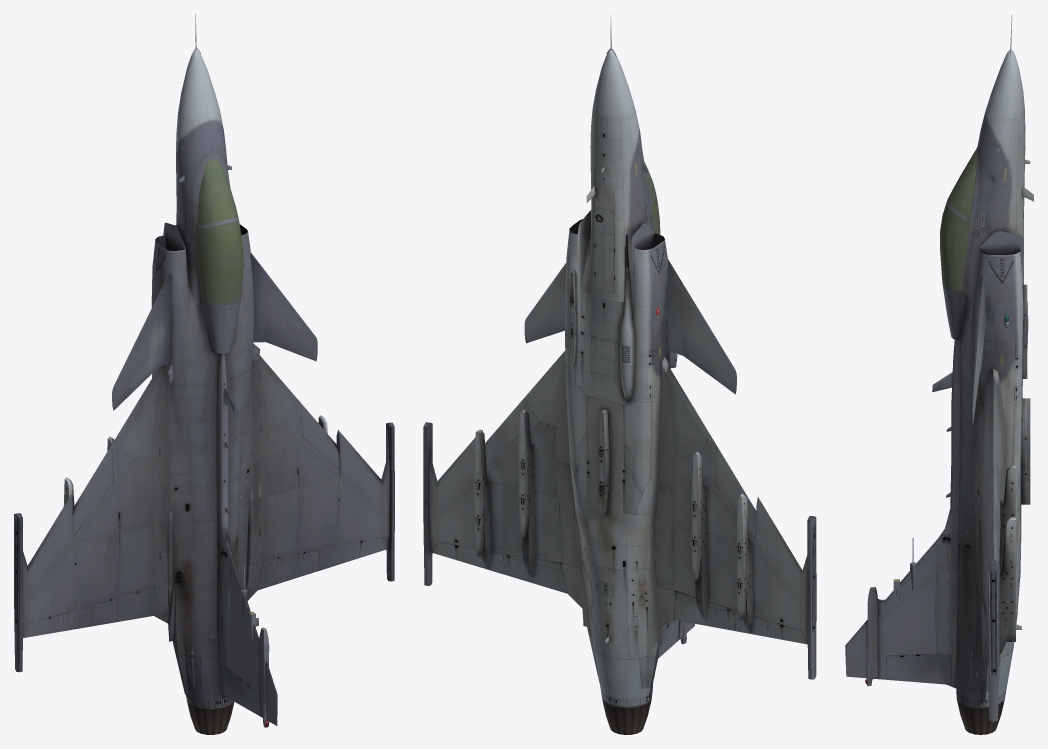
Rendered from Saab-39_Gripen.obj.
3 renders of one model, left to right at view 1: azimuth 30°, elevation 25°; view 2: azimuth 150°, elevation 25°; view 3: azimuth 270°, elevation 25°, orthographic. The views are drawn at different scales.
Parts seen in each view (by area): view 1: LOD0, CanardR01, Glass_Canopy01, CanardL01, FlapL01, VoletL01, VoletL02, FlapR01, Glass, VoletR01, VoletR02, AileronL01 (+4 smaller); view 2: LOD0, CanardL01, VoletL01, FlapL01, FlapR01, CanardR01, VoletL02, VoletR01, VoletR02, AileronR01, AileronL01, EngineL01; view 3: LOD0, Glass_Canopy01, RudderL01, Glass, CanardR01, VoletR02, EngineL01, BrakeR01, Canopy01.
Boxes of the visible parts, <box> form: LOD0: <box>14,14,394,727</box>; CanardR01: <box>250,252,317,361</box>; Glass_Canopy01: <box>196,220,243,303</box>; CanardL01: <box>112,272,172,410</box>; FlapL01: <box>92,584,173,626</box>; VoletL01: <box>27,495,73,602</box>; VoletL02: <box>72,440,118,541</box>; FlapR01: <box>246,550,320,600</box>; Glass: <box>197,158,237,225</box>; VoletR01: <box>336,430,382,516</box>; VoletR02: <box>295,396,340,476</box>; AileronL01: <box>23,605,94,637</box>; LOD0: <box>423,14,816,708</box>; CanardL01: <box>667,259,736,394</box>; VoletL01: <box>755,497,802,608</box>; FlapL01: <box>655,586,737,631</box>; FlapR01: <box>502,553,582,607</box>; CanardR01: <box>524,263,566,343</box>; VoletL02: <box>710,440,756,544</box>; VoletR01: <box>436,430,482,519</box>; VoletR02: <box>485,395,526,471</box>; AileronR01: <box>430,540,503,574</box>; AileronL01: <box>735,610,807,644</box>; EngineL01: <box>602,700,651,734</box>; LOD0: <box>845,14,1033,721</box>; Glass_Canopy01: <box>939,203,970,290</box>; RudderL01: <box>886,654,950,686</box>; Glass: <box>948,148,976,218</box>; CanardR01: <box>972,276,985,426</box>; VoletR02: <box>986,462,999,565</box>; EngineL01: <box>957,699,1004,734</box>; BrakeR01: <box>966,655,1000,692</box>; Canopy01: <box>942,200,973,293</box>.
Bounding box in the file's own units: 8.31 × 14.83 × 3.55.
4 materials, 4 textured.
